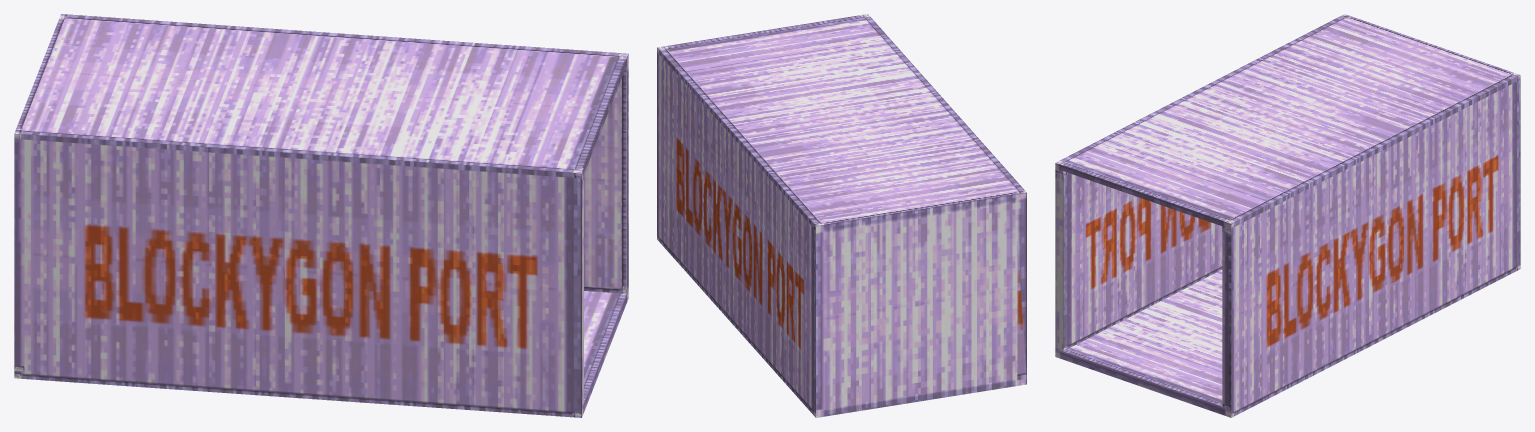
The model's file is BLOCKYGON_WHITE CONTAINER(HALF OPEN).fbx.
3 renders of one model, left to right at view 1: azimuth 30°, elevation 25°; view 2: azimuth 150°, elevation 25°; view 3: azimuth 270°, elevation 25°, orthographic. The views are drawn at different scales.
Parts seen in each view (by area): view 1: BLOCKYGON_WHITE_CONTAINER_HALF_OPEN_; view 2: BLOCKYGON_WHITE_CONTAINER_HALF_OPEN_; view 3: BLOCKYGON_WHITE_CONTAINER_HALF_OPEN_.
Boxes of the visible parts, x1=… form: BLOCKYGON_WHITE_CONTAINER_HALF_OPEN_: x1=14, y1=14, x2=628, y2=417; BLOCKYGON_WHITE_CONTAINER_HALF_OPEN_: x1=657, y1=14, x2=1026, y2=417; BLOCKYGON_WHITE_CONTAINER_HALF_OPEN_: x1=1055, y1=14, x2=1520, y2=417.
Size of the model in its own units: 474 by 204 by 444.
Materials: 1 (1 with a texture image).
